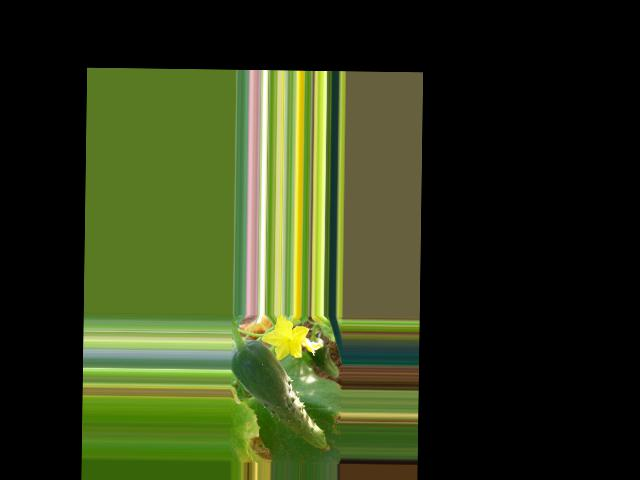cucumber: (230, 339, 331, 451)
